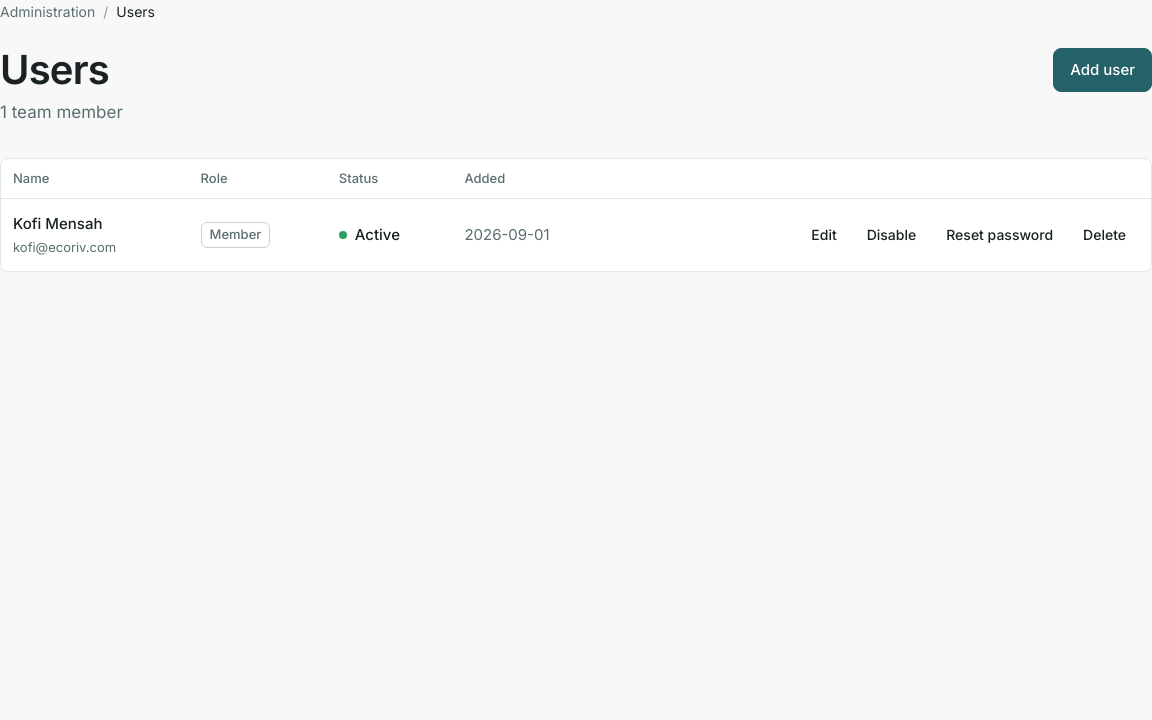
an administrator sends a reset link after confirming (spec 01.9)
Click the button "Reset password".
click(1000, 235)  # box left=933, top=217, right=1066, bottom=253
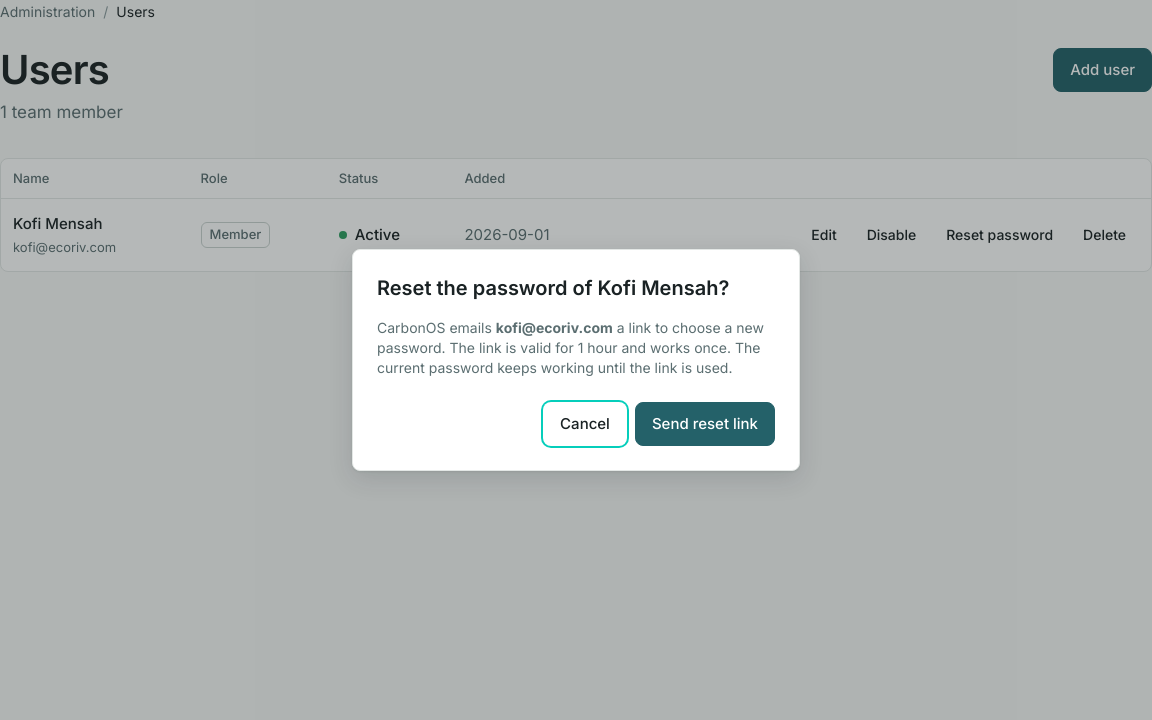
Result: the heading "Reset the password of Kofi Mensah?" is shown at left=377, top=274, right=775, bottom=302
Result: the text "valid for 1 hour and works once" is shown at left=377, top=319, right=764, bottom=376
Click the button "Send reset link".
click(705, 424)  # box left=635, top=402, right=775, bottom=446
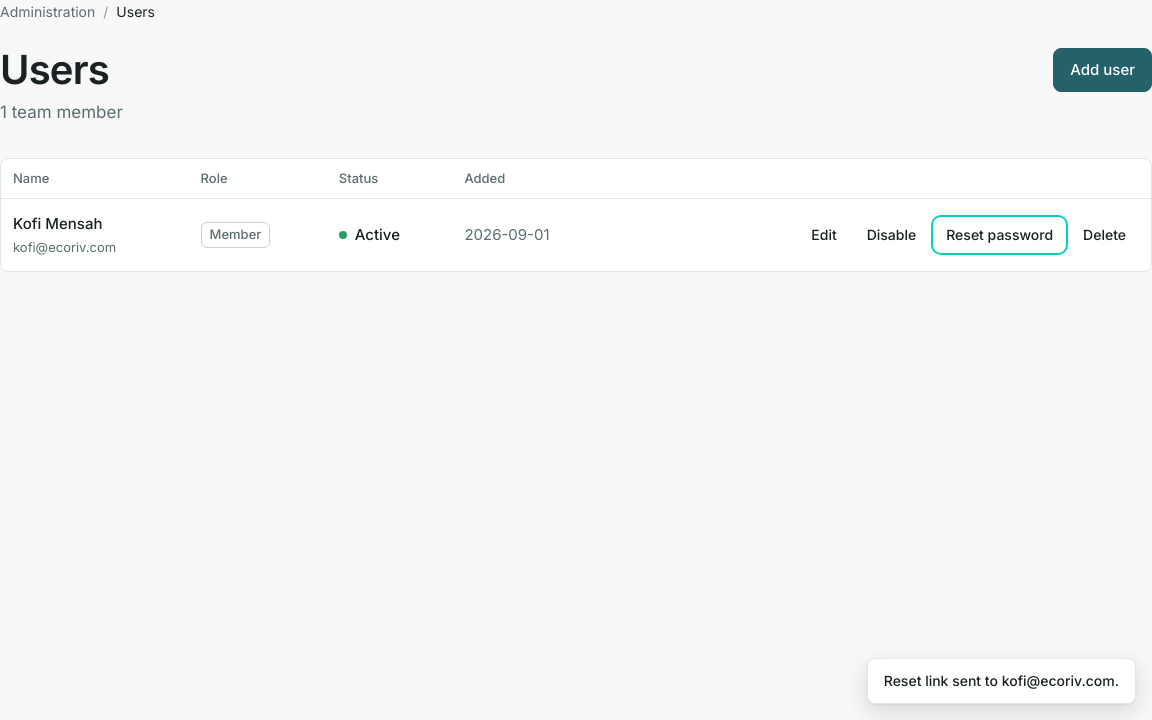
Result: the text "Reset link sent to kofi@ecoriv.com." is shown at left=867, top=658, right=1136, bottom=704
